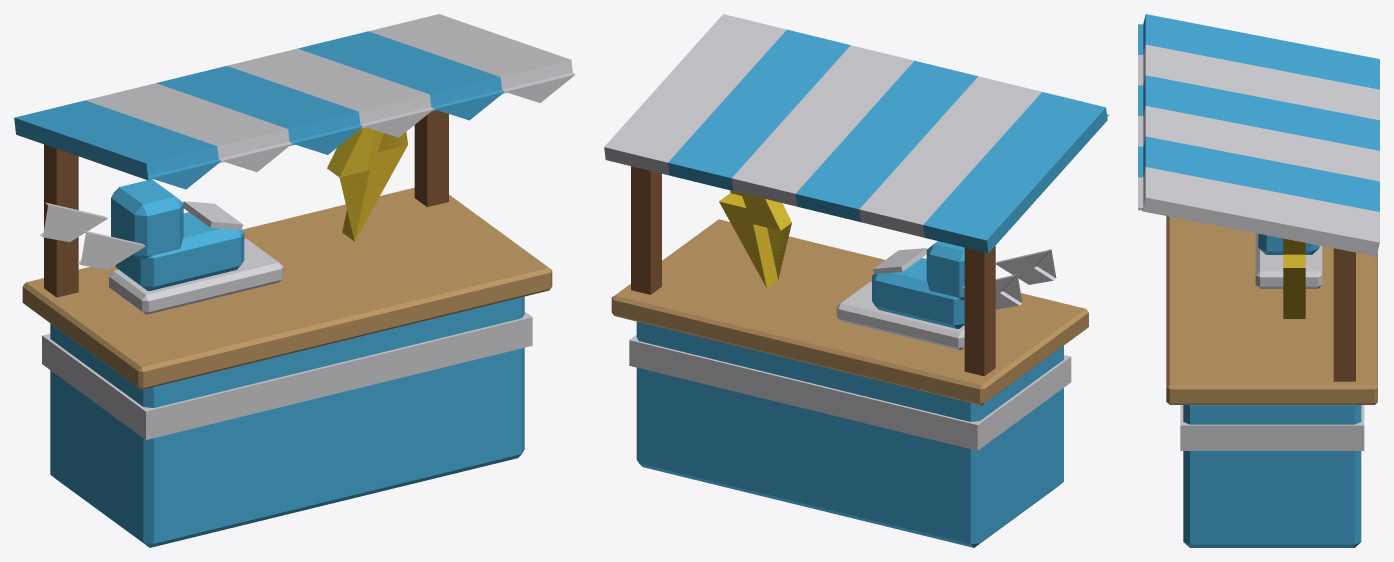
File: Prop_UpgradeStand_MoveSpeed.fbx
3 renders of one model, left to right at view 1: azimuth 30°, elevation 25°; view 2: azimuth 150°, elevation 25°; view 3: azimuth 270°, elevation 25°, orthographic. The views are drawn at different scales.
Parts seen in each view (by area): view 1: Body; view 2: Body; view 3: Body.
Boxes of the visible parts, <box> form: Body: <box>14,14,575,547</box>; Body: <box>604,14,1109,547</box>; Body: <box>1138,14,1379,547</box>.
Bounding box in the file's own units: 7.9 × 7.18 × 4.34.
